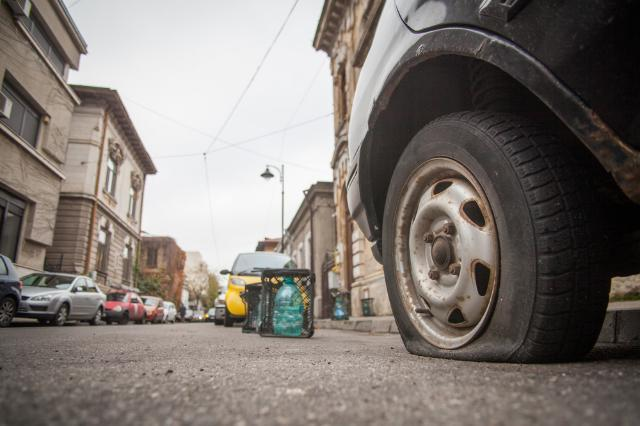tire flat: (383, 109, 613, 365)
